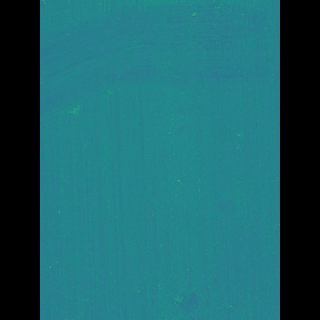Loch: (68, 0, 251, 126), (162, 281, 198, 320)
